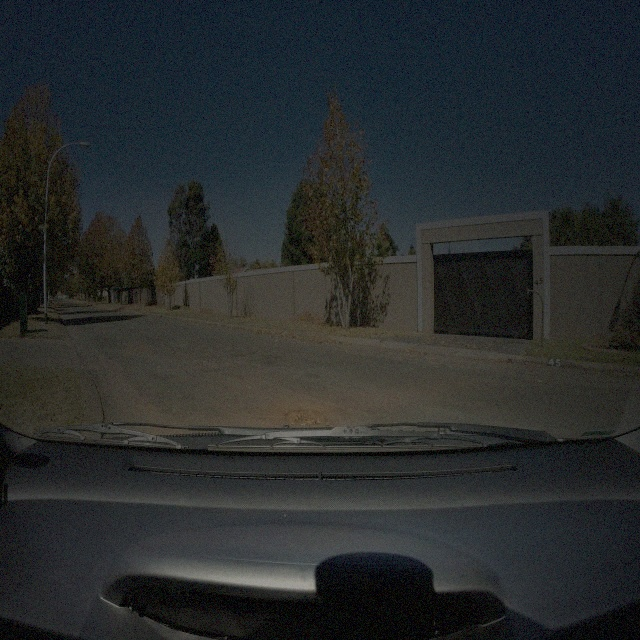pothole: (286, 406, 328, 428), (128, 349, 150, 357)
